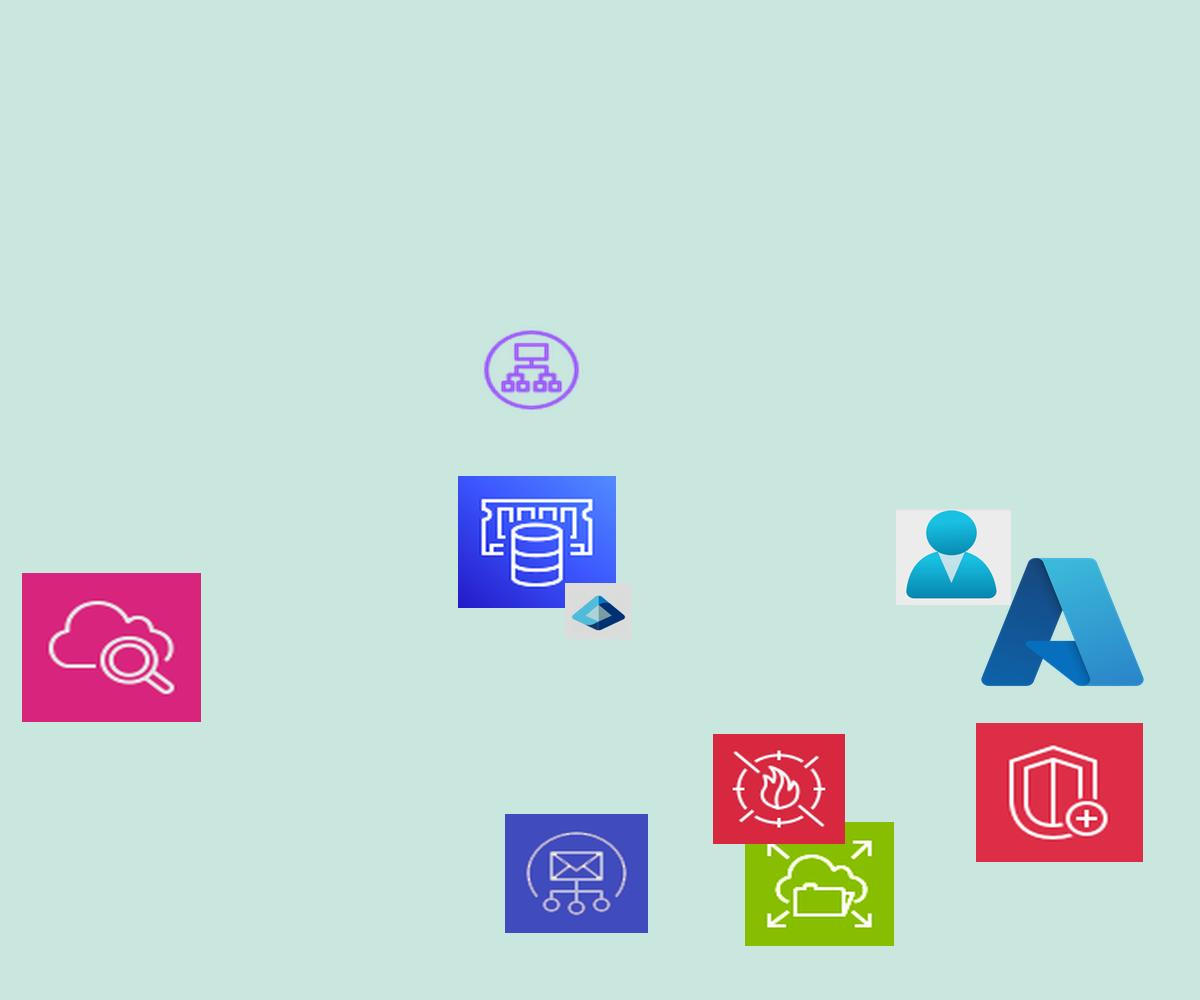AWS-CloudWatch: (22, 573, 201, 722)
AWS-EFS: (745, 822, 894, 946)
AWS-ElastiCache: (458, 476, 616, 608)
AWS-Res_Elastic-Load-Balancing_Application-Load-Balancer: (480, 327, 583, 413)
AWS-Shield: (976, 723, 1143, 862)
AWS-Simple-Email-Service: (505, 814, 648, 933)
AWS-WAF: (713, 734, 845, 844)
Azure_microsoft_entra: (565, 583, 632, 639)
Azure_services: (974, 548, 1151, 696)
Azure_users: (896, 509, 1011, 605)
